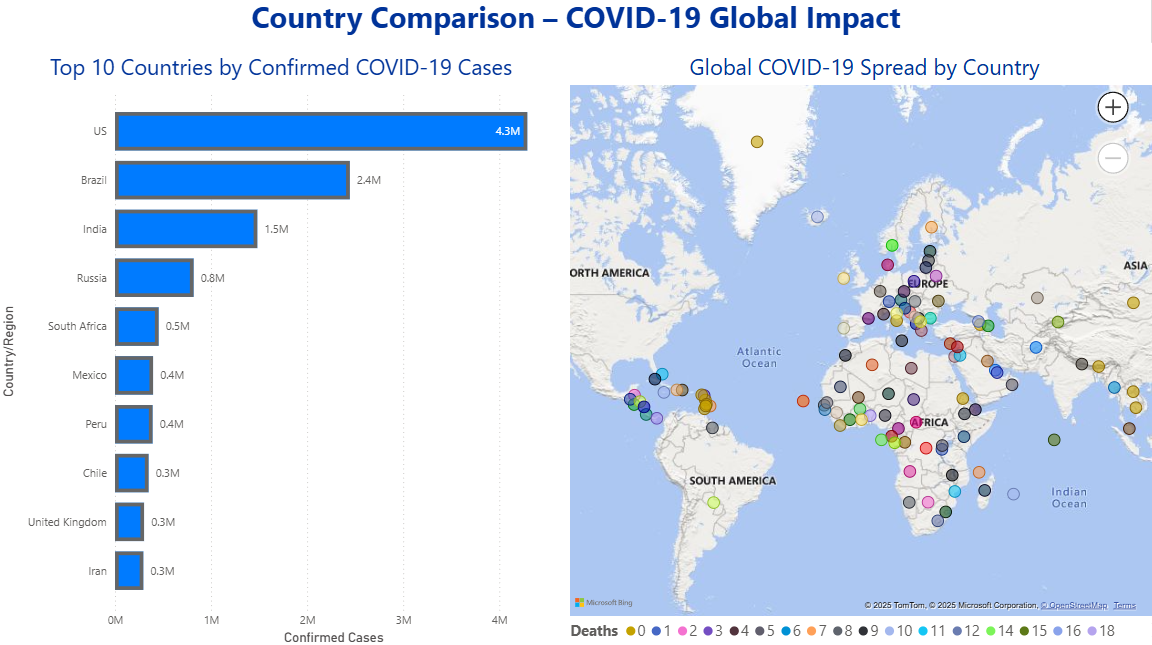

This screenshot's page, from the dashboard's own definition file:
{"tool":"powerbi","page":{"name":"Country Comparison","canvas":[1280,720],"ordinal":1},"visuals":[{"type":"clusteredBarChart","title":"Top 10 Countries by Confirmed COVID-19 Cases","fields":{"Category":["country_cleaned.country/region"],"Y":["Sum(country_cleaned.confirmed)"]},"box":[0,64,624,656],"z":0},{"type":"map","title":"Global COVID-19 Spread by Country","fields":{"Category":["country_cleaned.country/region"],"Series":["country_cleaned.deaths"]},"box":[624,64,656,656],"z":1000},{"type":"textbox","box":[0,0,1280,64],"z":2000}]}

Visuals, with their boxes in screenshot pixels (x1, y1, x2, y2), scaled from the page's 1280x720 canvas onto the 1152x645 screenshot:
"Top 10 Countries by Confirmed COVID-19 Cases" clusteredBarChart: [0,57,562,644]
"Global COVID-19 Spread by Country" map: [562,57,1151,644]
textbox: [0,0,1151,57]
